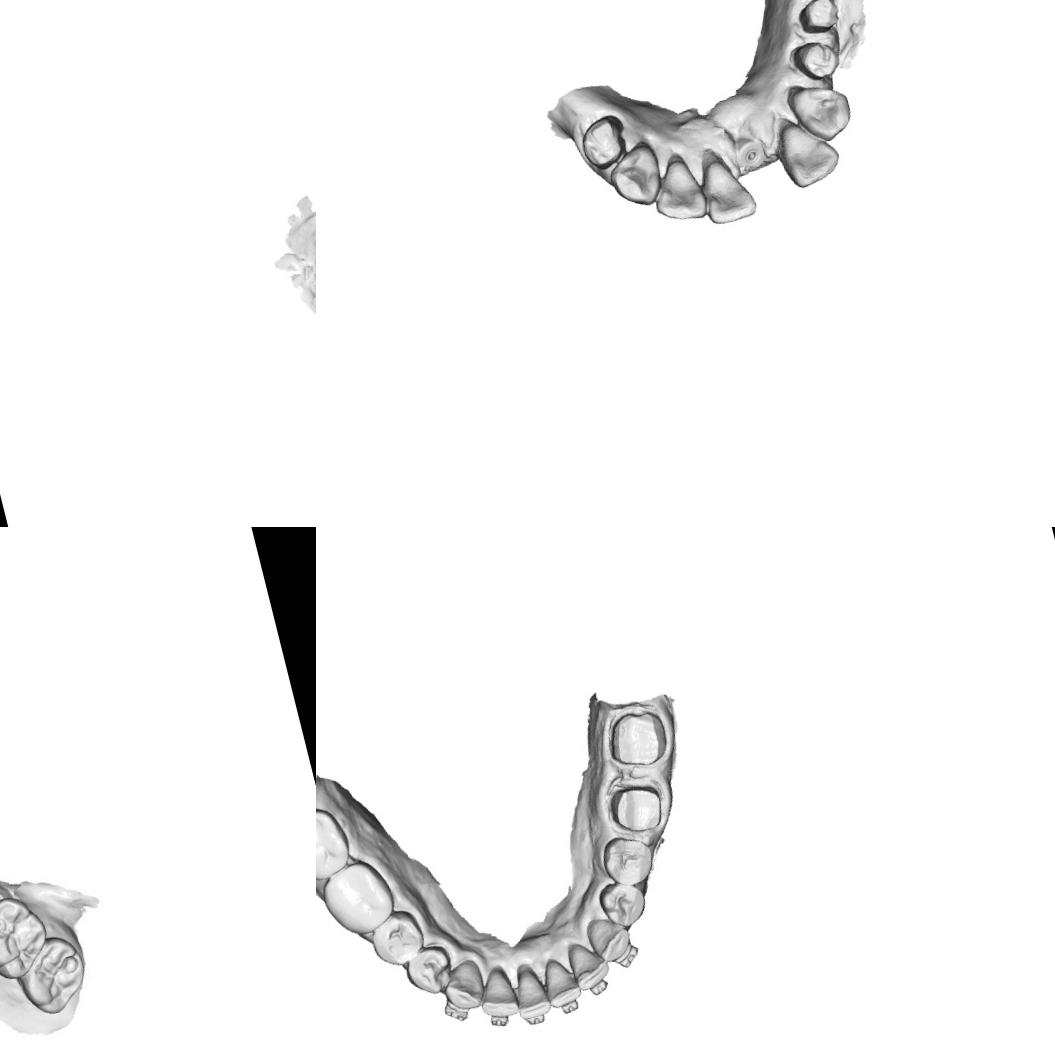canine: (788, 72, 860, 146), (604, 142, 668, 213), (581, 908, 636, 968), (436, 955, 489, 1015)
crown: (599, 704, 673, 774), (603, 775, 668, 838), (572, 108, 634, 172), (789, 33, 846, 85), (790, 0, 845, 42)
implant: (732, 133, 768, 170), (305, 243, 316, 297)
incisor: (772, 111, 844, 192), (694, 142, 758, 229), (649, 157, 709, 228), (470, 960, 522, 1024), (562, 934, 615, 994), (536, 950, 584, 1010), (506, 962, 553, 1023)
molar: (10, 926, 95, 1020), (316, 852, 400, 942), (0, 885, 58, 989), (316, 799, 357, 889)
premolar: (362, 904, 430, 973), (594, 828, 660, 892), (398, 939, 458, 1000), (593, 874, 651, 932)
